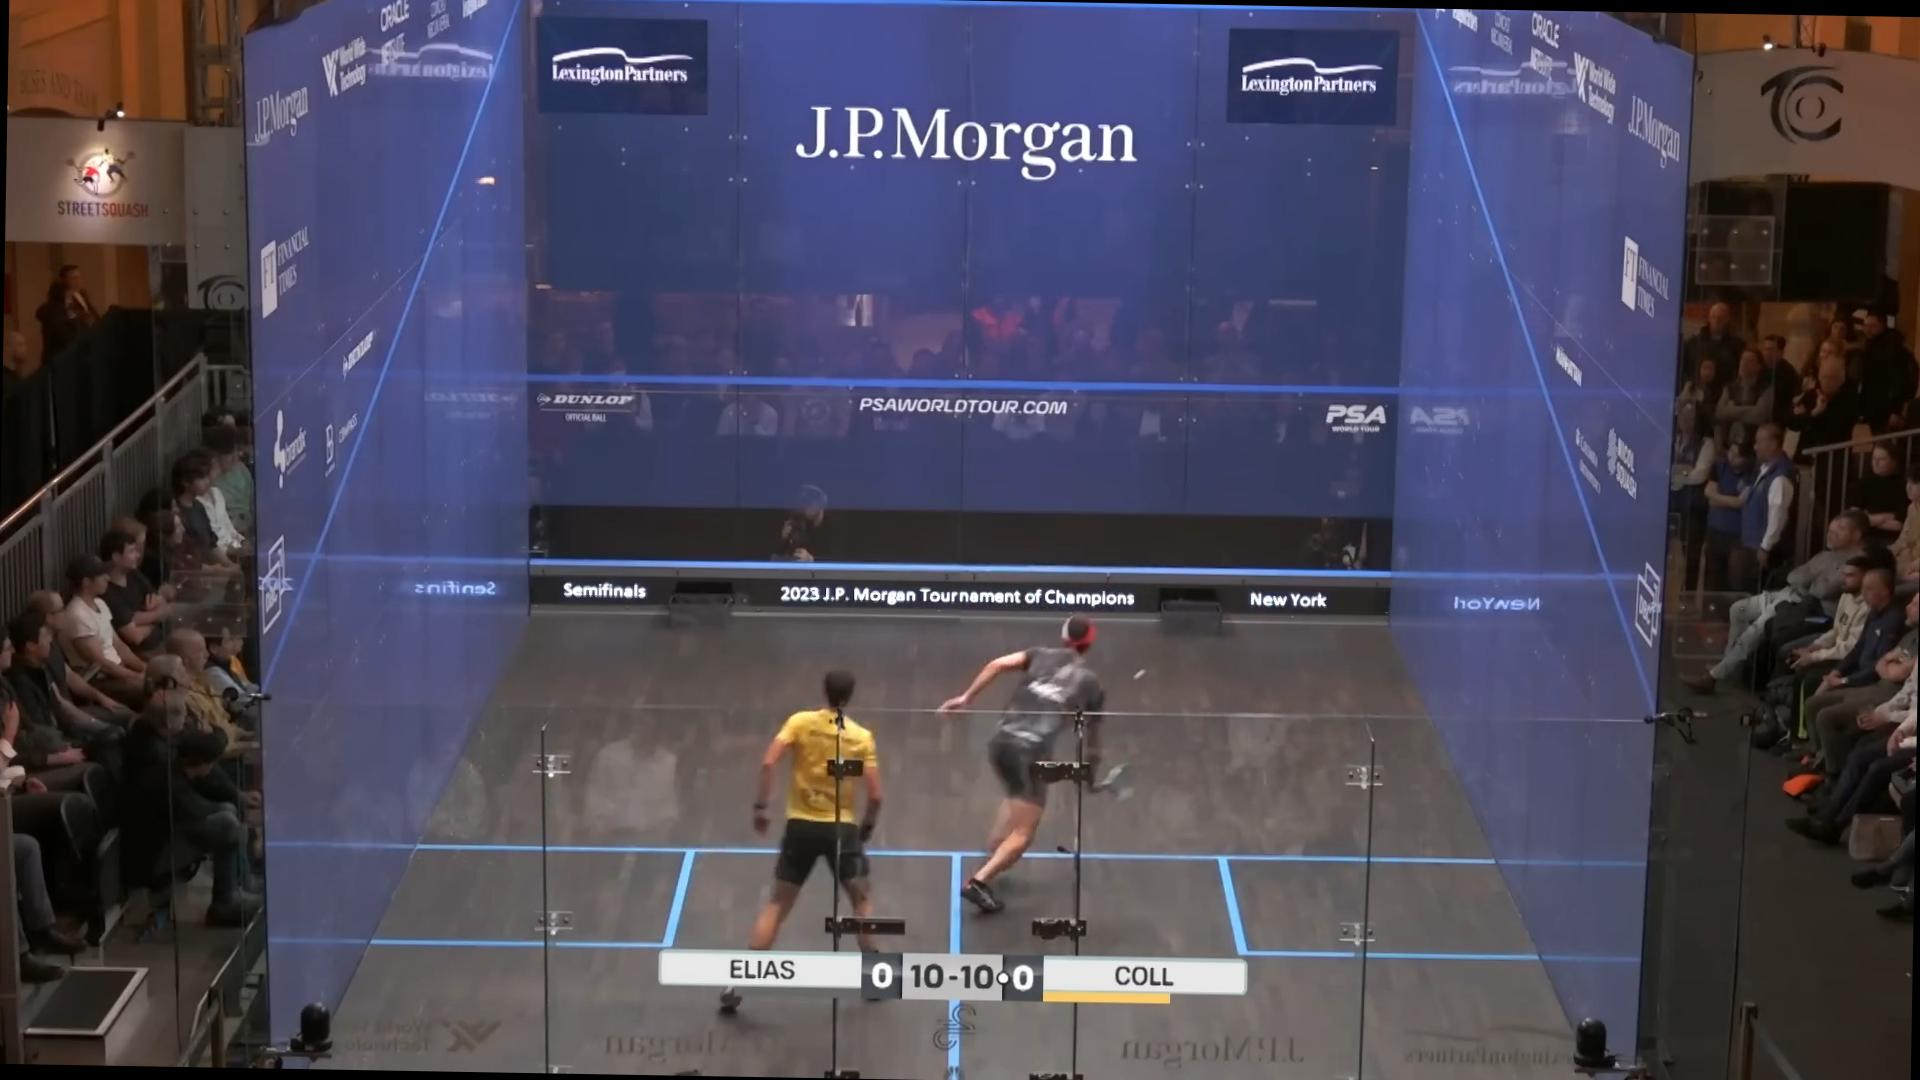Racket: (1096, 756, 1149, 811)
